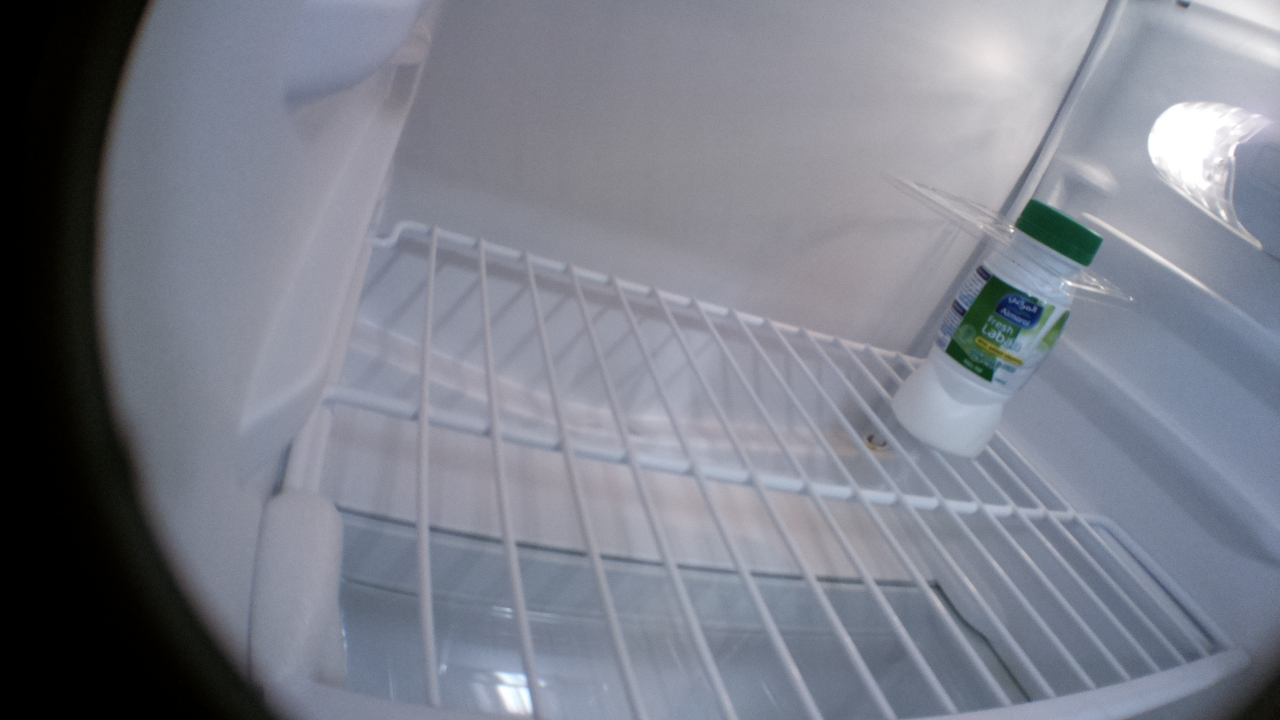laban: (889, 197, 1104, 457)
